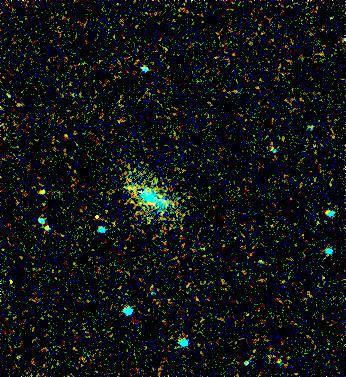star: (30, 181, 60, 211)
